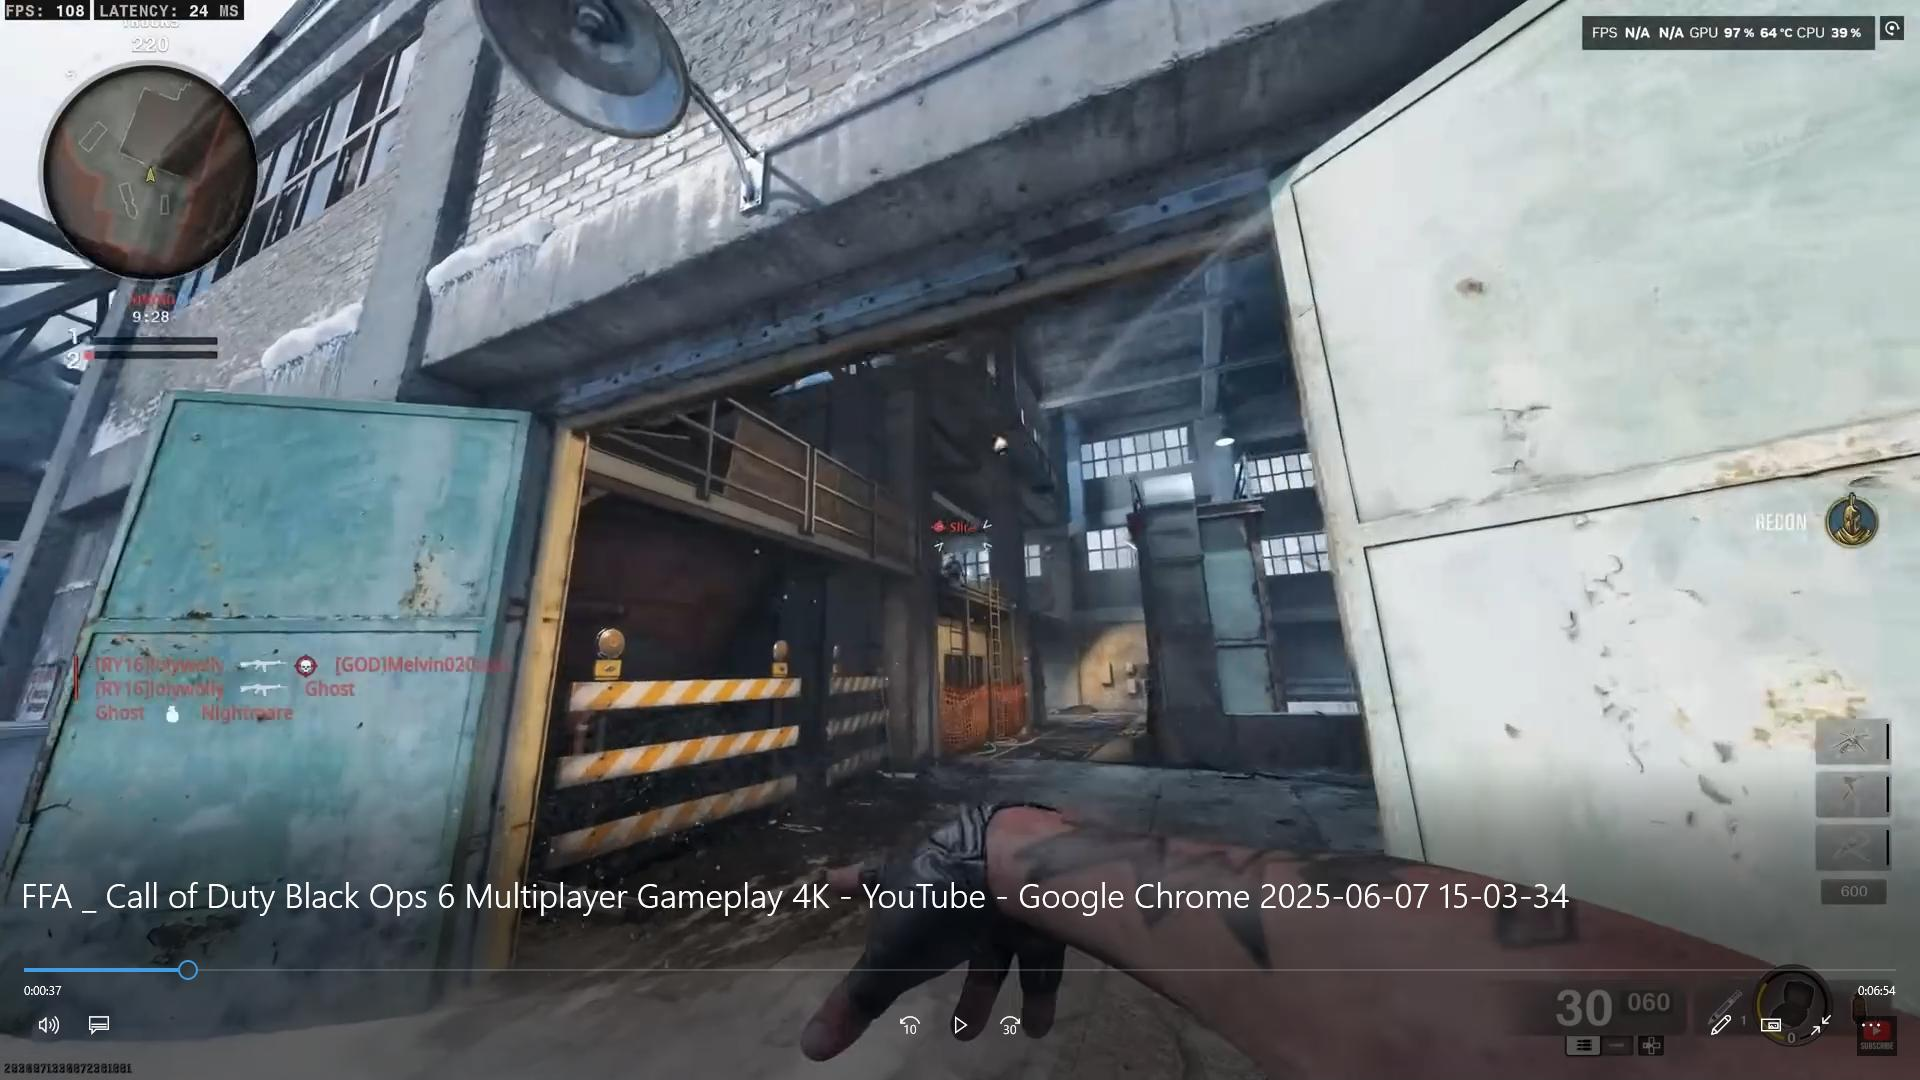Enemy: (938, 514, 973, 580)
